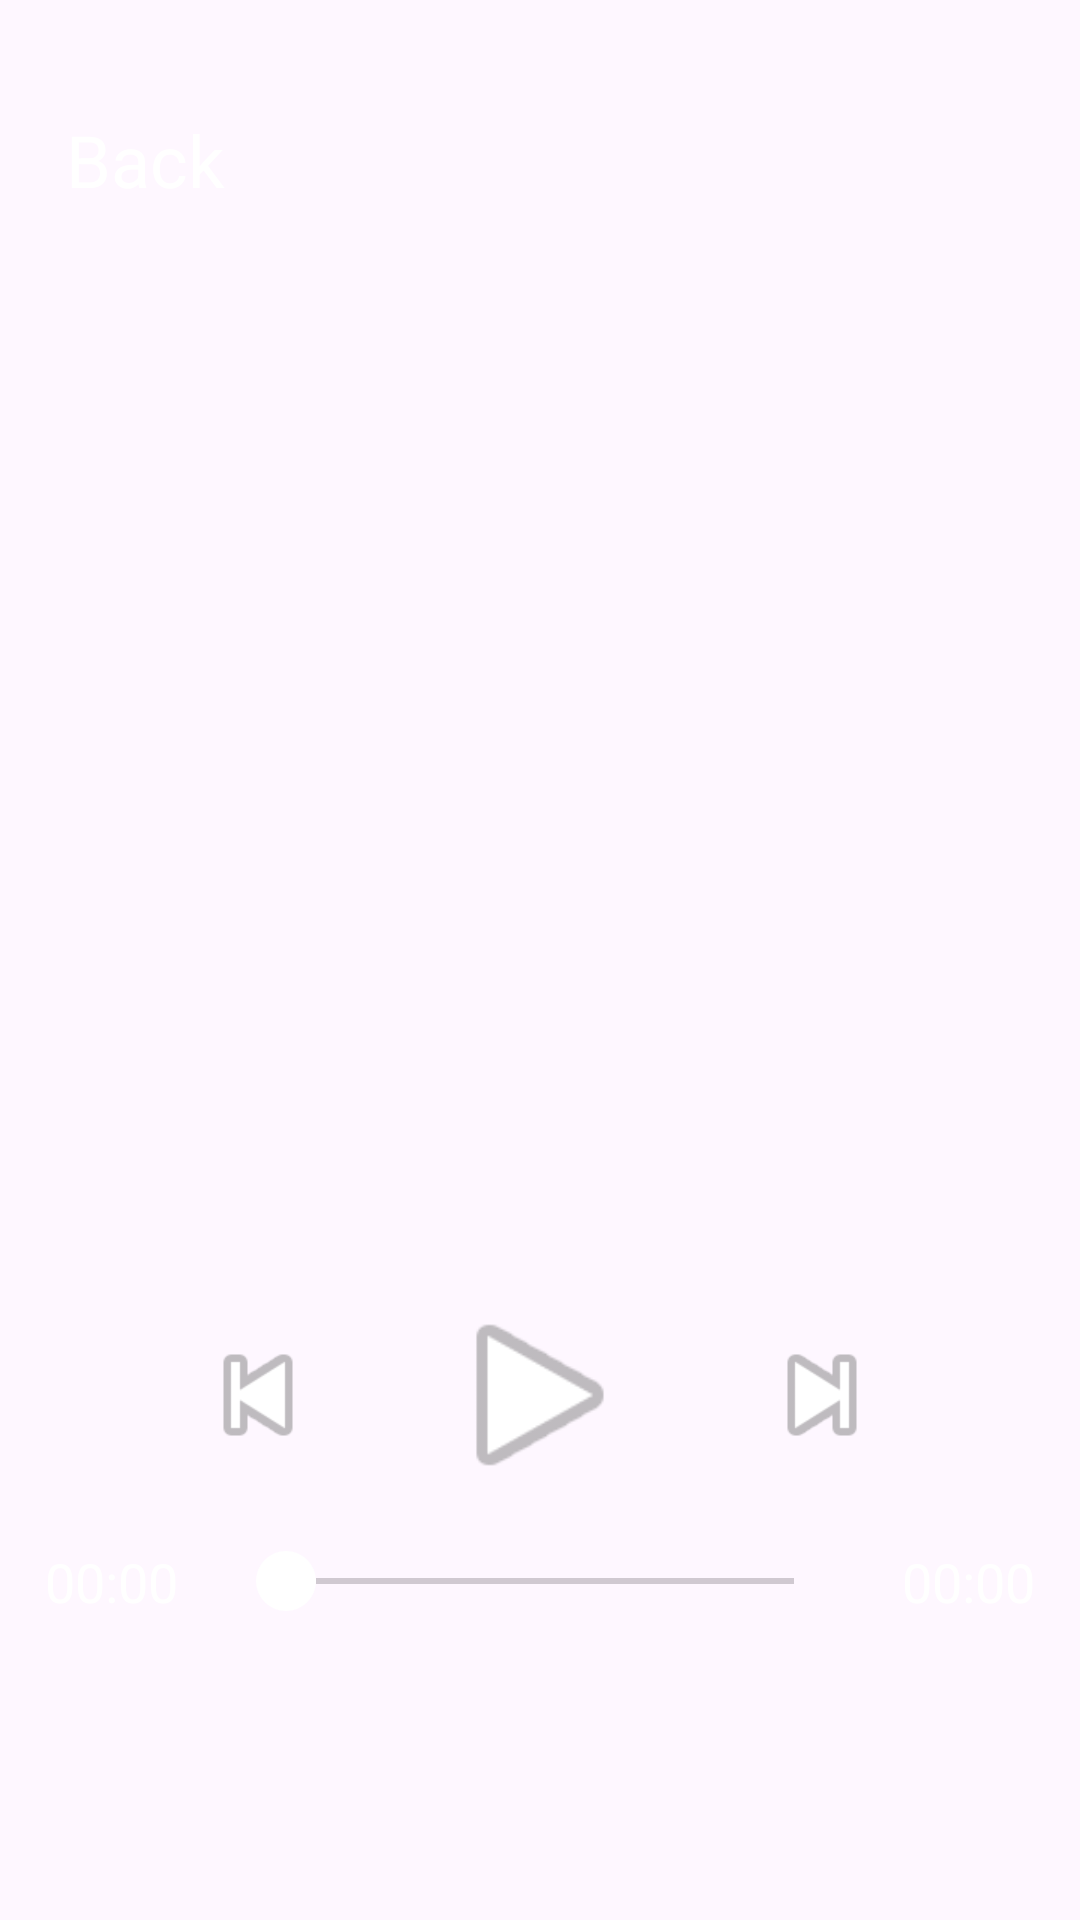

Icons on this 1080*1920 Android screen, each with its box as (x1, y1, x2, y2):
next: (787, 1354, 857, 1436)
play: (476, 1325, 604, 1465)
previous: (223, 1354, 293, 1436)
